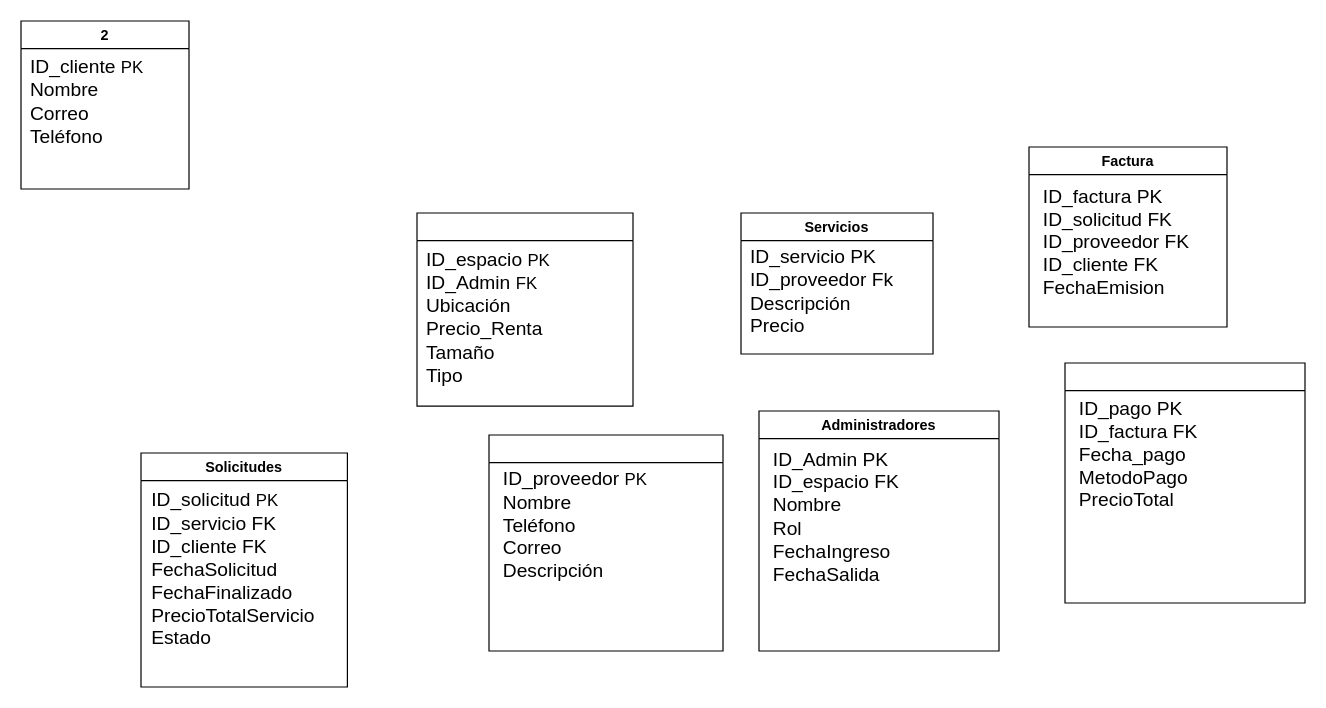
The diagram is 1326 pixels wide and 708 high, and some of its shapes have lost their labels. The box of each missing label's shape, as (x1, y1, x2, y2) in pixels:
Pagos: (1064, 362, 1305, 603)
ProveedoresServicios: (488, 434, 723, 651)
Zonas: (416, 212, 633, 406)
